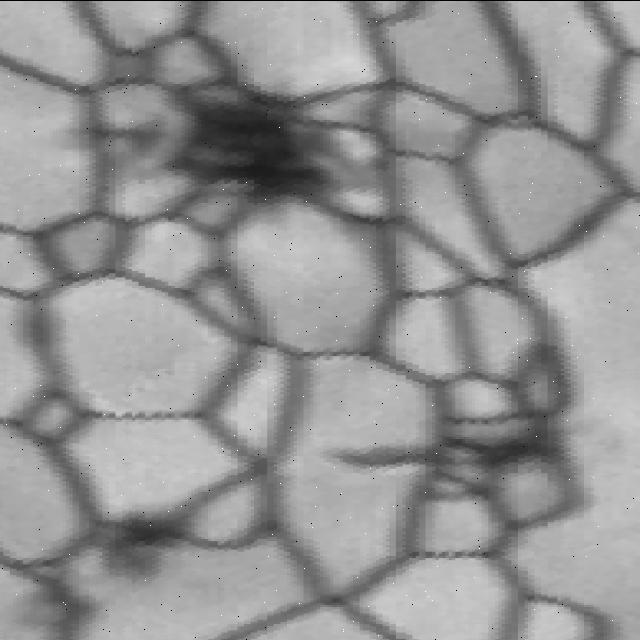good_void: (160, 76, 381, 210), (328, 422, 549, 490), (85, 504, 253, 583), (80, 109, 170, 156)
